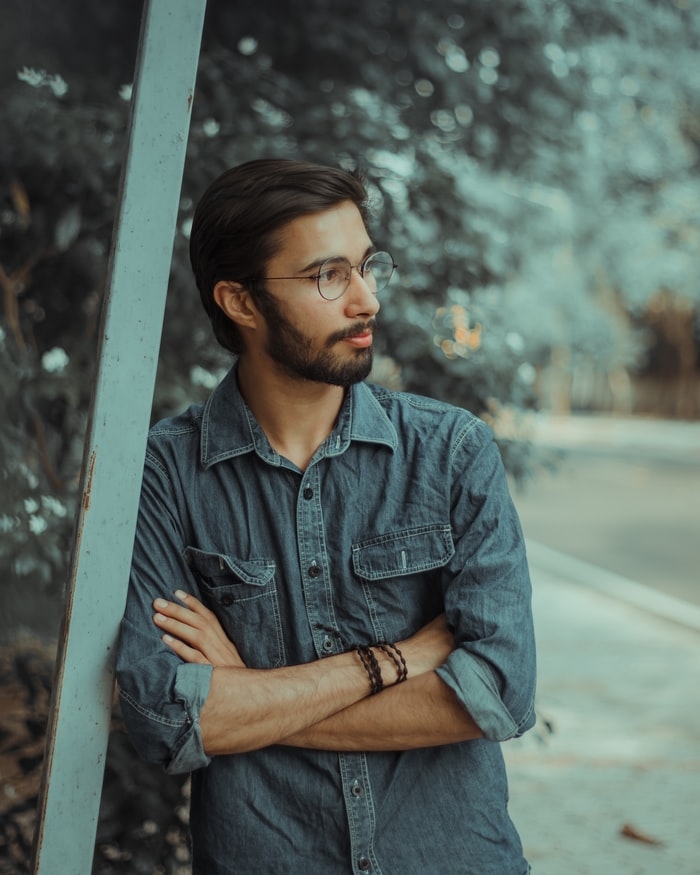beard: (257, 305, 379, 391)
glasses: (298, 247, 401, 302)
